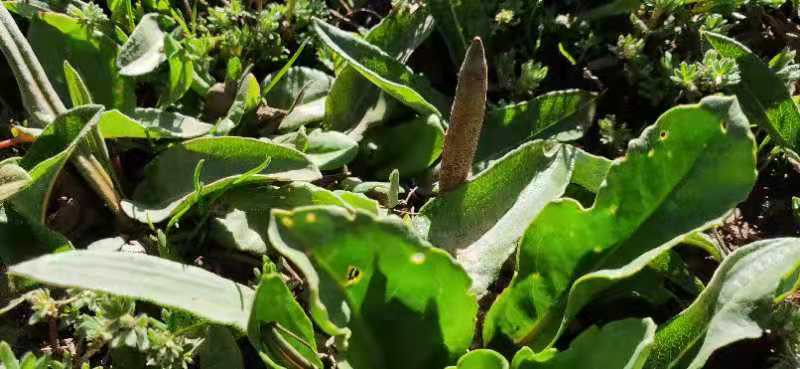cpf: (438, 34, 490, 190)
